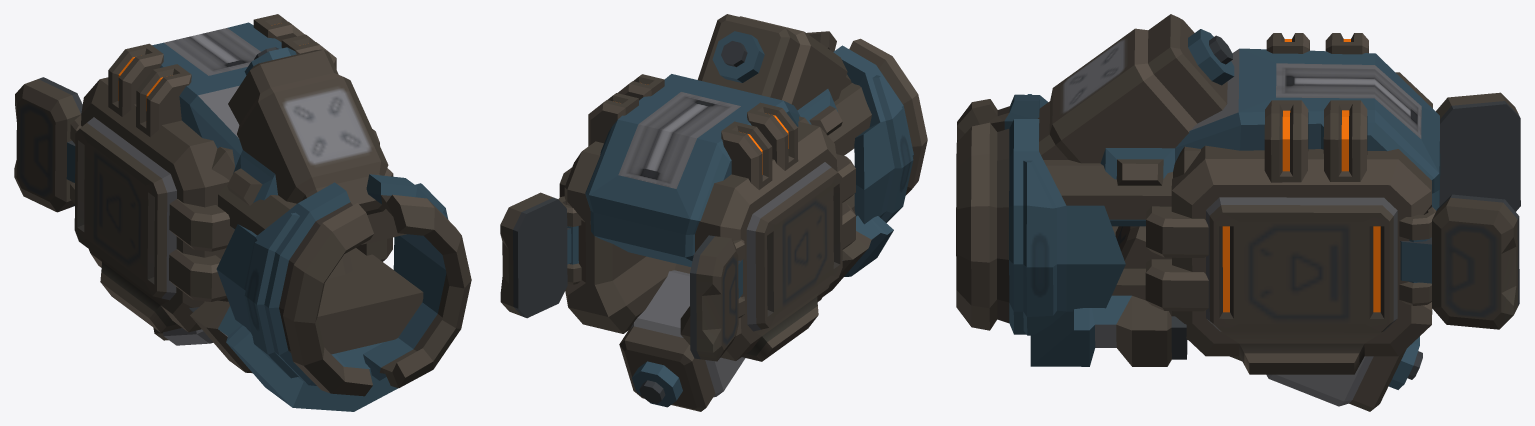
File: SM_Mech_Arm_01_Armor_Forearm_05.fbx
3 renders of one model, left to right at view 1: azimuth 30°, elevation 25°; view 2: azimuth 150°, elevation 25°; view 3: azimuth 270°, elevation 25°, orthographic. The views are drawn at different scales.
Visible parts, largest first — view 1: SM_Mech_Arm_01_Armor_Forearm_05; view 2: SM_Mech_Arm_01_Armor_Forearm_05; view 3: SM_Mech_Arm_01_Armor_Forearm_05.
Boxes of the visible parts, bbox=[...] form: SM_Mech_Arm_01_Armor_Forearm_05: bbox=[14, 14, 471, 411]; SM_Mech_Arm_01_Armor_Forearm_05: bbox=[500, 14, 927, 411]; SM_Mech_Arm_01_Armor_Forearm_05: bbox=[956, 14, 1520, 411].
Bounding box in the file's own units: 63.48 × 88.18 × 123.
